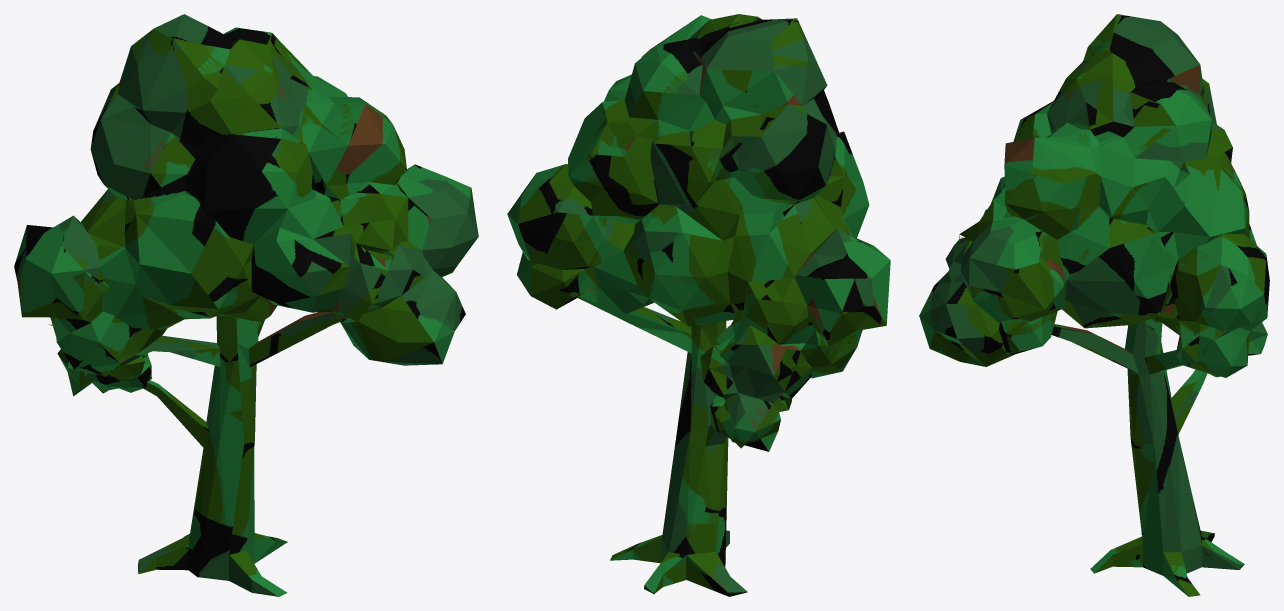
Rendered from tree.glb.
The picture shows the model from 3 angles, left to right: view 1: azimuth 30°, elevation 25°; view 2: azimuth 150°, elevation 25°; view 3: azimuth 270°, elevation 25°; orthographic projection. The views are drawn at different scales.
Visible parts, largest first — view 1: tree1; view 2: tree1; view 3: tree1.
Part boxes in pixels (box(x1,y1,x2,y2)): tree1: box(14, 14, 478, 596); tree1: box(507, 14, 890, 596); tree1: box(919, 14, 1269, 596).
Bounding box in the file's own units: 12.92 × 19.28 × 11.9.
Materials: 1 (1 with a texture image).
